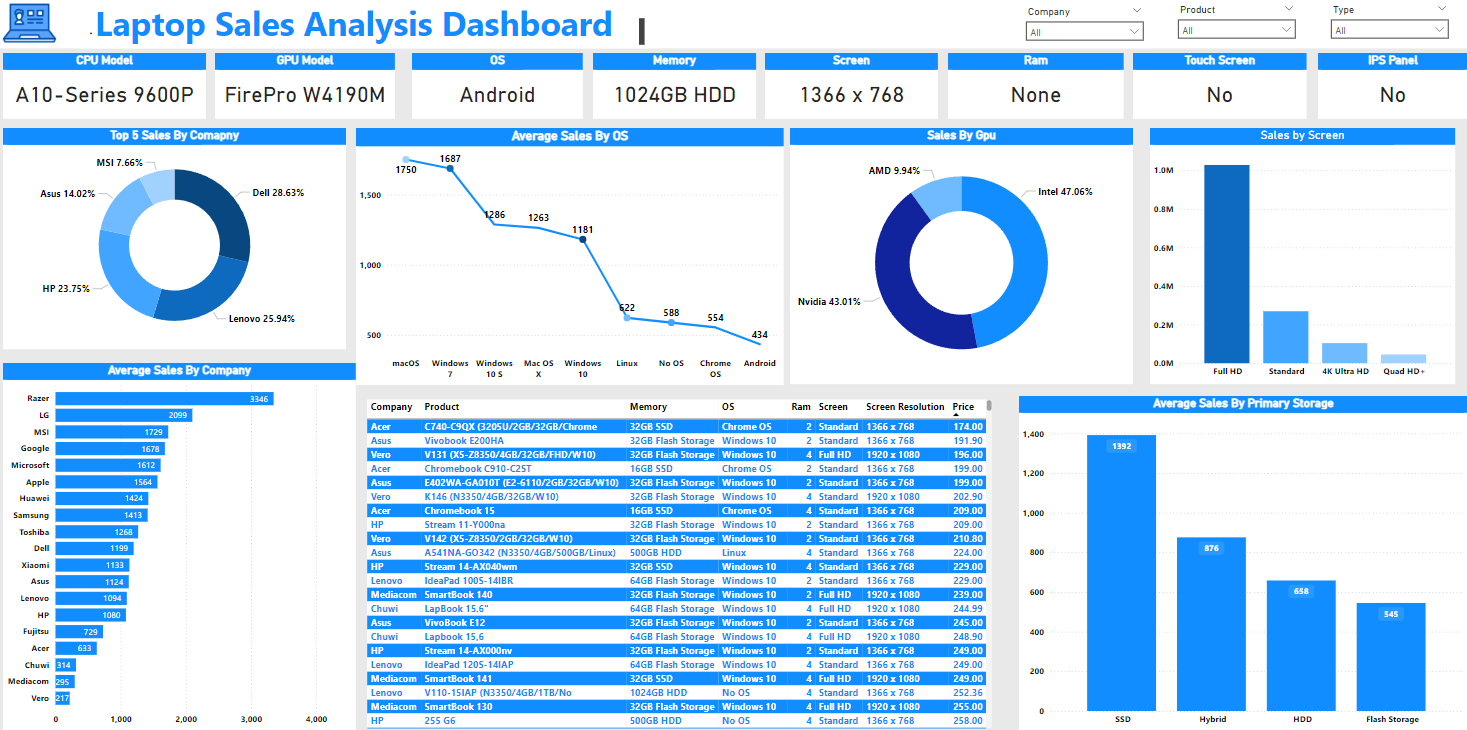

The page's visual inventory and layout, read from the dashboard file:
{"tool":"powerbi","page":{"name":"Page 1","canvas":[2100,1080],"ordinal":0},"visuals":[{"type":"card","title":"OS","fields":{"Values":["Min(laptop_prices.OS)"]},"box":[591.4,85.7,244.3,94.3],"z":1001},{"type":"card","title":"CPU Model","fields":{"Values":["Min(laptop_prices.CPU_model)"]},"box":[7.1,85.7,290,94.3],"z":1003},{"type":"tableEx","fields":{"Values":["laptop_prices.Company","laptop_prices.Product","laptop_prices.Memory","laptop_prices.OS","Sum(laptop_prices.Ram)","laptop_prices.Screen","laptop_prices.Screen Resolution","Sum(laptop_prices.Price)"]},"box":[521.4,575.7,904.3,480],"z":1007},{"type":"shape","box":[0,7,2100,72],"z":1008},{"type":"card","title":"GPU Model","fields":{"Values":["Min(laptop_prices.GPU_model)"]},"box":[310,85.7,257.1,94.3],"z":1009},{"type":"card","title":"Memory","fields":{"Values":["Min(laptop_prices.Memory)"]},"box":[850,85.7,232.9,94.3],"z":1010},{"type":"slicer","fields":{"Values":["laptop_prices.Company"]},"box":[1458,13,188,66],"z":1011},{"type":"card","title":"Screen","fields":{"Values":["Min(laptop_prices.Screen Resolution)"]},"box":[1095.7,85.7,247.1,94.3],"z":1013},{"type":"donutChart","title":"Top 5 Sales By Comapny","fields":{"Category":["laptop_prices.Company"],"Y":["Sum(laptop_prices.Price)"]},"box":[6.7,192.2,490,315.6],"z":1016},{"type":"clusteredBarChart","title":"Average Sales By Company","fields":{"Category":["laptop_prices.Company"],"Y":["Avg(laptop_prices.Price)"]},"box":[7,528,504,527],"z":1017},{"type":"lineChart","title":"Average Sales By OS","fields":{"Category":["laptop_prices.OS"],"Y":["Avg(laptop_prices.Price)"]},"box":[511.1,192.2,611.1,366.7],"z":1018},{"type":"card","title":"Touch Screen","fields":{"Values":["Min(laptop_prices.Touchscreen)"]},"box":[1622,86,248,94],"z":1019},{"type":"card","title":"IPS Panel","fields":{"Values":["Min(laptop_prices.IPSpanel)"]},"box":[1886,86,214,94],"z":1020},{"type":"card","title":"Ram","fields":{"Values":["laptop_prices.Measure Ram"]},"box":[1357.1,85.7,251.4,94.3],"z":1021},{"type":"columnChart","title":"Average Sales By Primary Storage","fields":{"Category":["laptop_prices.PrimaryStorageType"],"Y":["Avg(laptop_prices.Price)"]},"box":[1458.6,575.7,641.4,480],"z":1022},{"type":"donutChart","title":"Sales By Gpu","fields":{"Y":["Sum(laptop_prices.Price)"],"Category":["laptop_prices.GPU_company"]},"box":[1131.2,192.5,490,366.2],"z":1024},{"type":"columnChart","title":"Sales by Screen","fields":{"Category":["laptop_prices.Screen"],"Y":["Sum(laptop_prices.Price)"]},"box":[1646,193,436,366],"z":1025},{"type":"image","box":[0,0,89,86],"z":1026},{"type":"textbox","box":[116,20,813,59],"z":1027},{"type":"slicer","fields":{"Values":["laptop_prices.Product"]},"box":[1676,10,188,66],"z":1028},{"type":"slicer","fields":{"Values":["laptop_prices.TypeName"]},"box":[1894,10,188,66],"z":1029}]}

Visuals, with their boxes on the page's 2100x1080 design canvas (x1, y1, x2, y2). These are canvas units, not pixel positions in the 1467x730 screenshot, which may show the page scaled, cropped or inside an application window:
"OS" card: <box>591,86,836,180</box>
"CPU Model" card: <box>7,86,297,180</box>
tableEx - laptop_prices.Company x laptop_prices.Product: <box>521,576,1426,1056</box>
shape: <box>0,7,2100,79</box>
"GPU Model" card: <box>310,86,567,180</box>
"Memory" card: <box>850,86,1083,180</box>
slicer - laptop_prices.Company: <box>1458,13,1646,79</box>
"Screen" card: <box>1096,86,1343,180</box>
"Top 5 Sales By Comapny" donutChart: <box>7,192,497,508</box>
"Average Sales By Company" clusteredBarChart: <box>7,528,511,1055</box>
"Average Sales By OS" lineChart: <box>511,192,1122,559</box>
"Touch Screen" card: <box>1622,86,1870,180</box>
"IPS Panel" card: <box>1886,86,2100,180</box>
"Ram" card: <box>1357,86,1608,180</box>
"Average Sales By Primary Storage" columnChart: <box>1459,576,2100,1056</box>
"Sales By Gpu" donutChart: <box>1131,192,1621,559</box>
"Sales by Screen" columnChart: <box>1646,193,2082,559</box>
image: <box>0,0,89,86</box>
textbox: <box>116,20,929,79</box>
slicer - laptop_prices.Product: <box>1676,10,1864,76</box>
slicer - laptop_prices.TypeName: <box>1894,10,2082,76</box>
